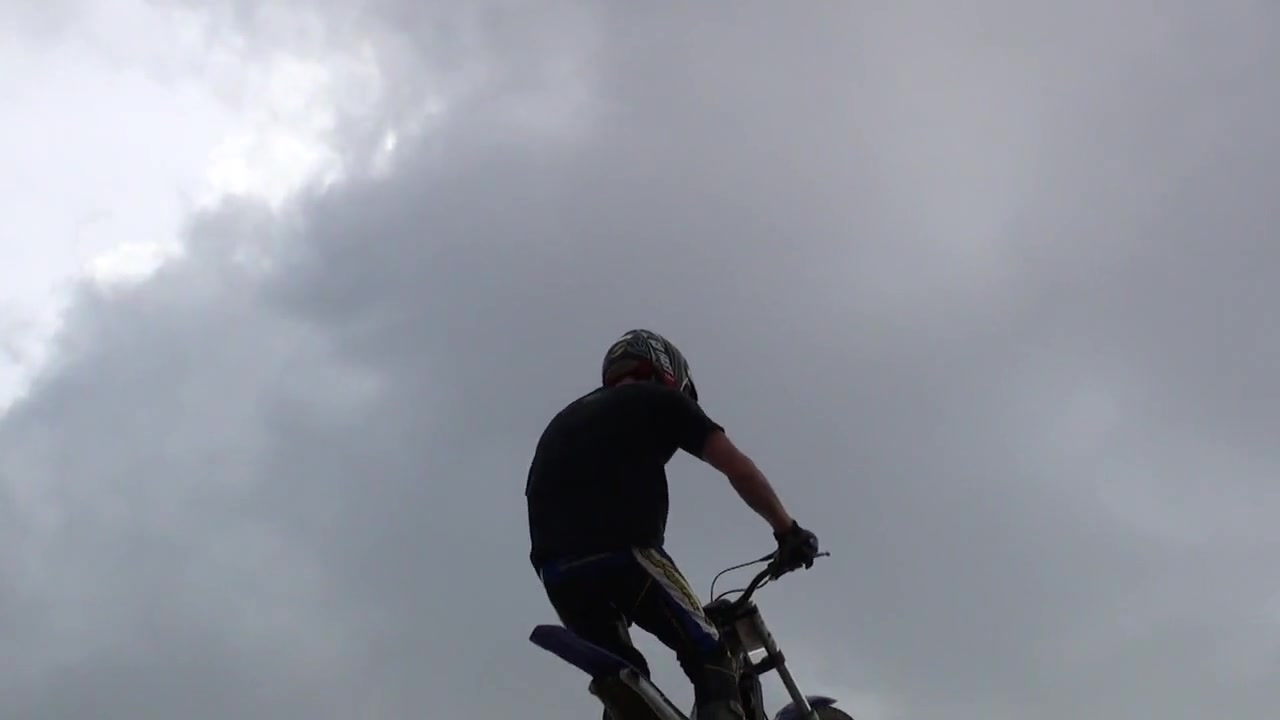motorbike: (528, 552, 912, 720)
